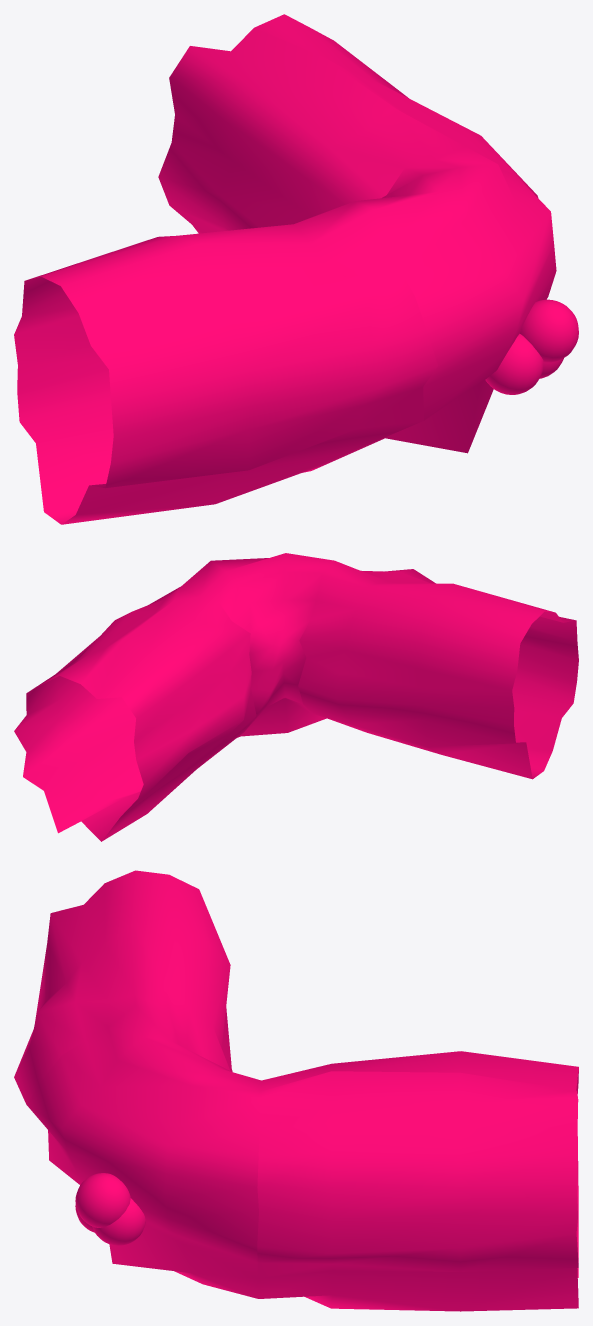
Rendered from veinTube02.fbx.
3 views of the same model, one above another, from view 1: azimuth 30°, elevation 25°; view 2: azimuth 150°, elevation 25°; view 3: azimuth 270°, elevation 25° (orthographic). The views are drawn at different scales.
Parts seen in each view (by area): view 1: veinTube; view 2: veinTube; view 3: veinTube.
Part boxes in pixels (x1,y1,x2,y2): veinTube: [14, 14, 578, 524]; veinTube: [14, 553, 578, 841]; veinTube: [14, 870, 578, 1311].
Size of the model in its own units: 2700 by 1346 by 2706.
